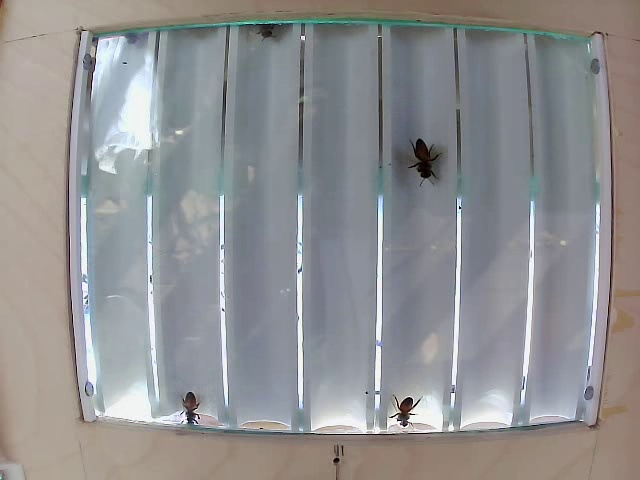bee: (405, 120, 441, 194), (174, 383, 220, 438), (382, 387, 427, 432)
